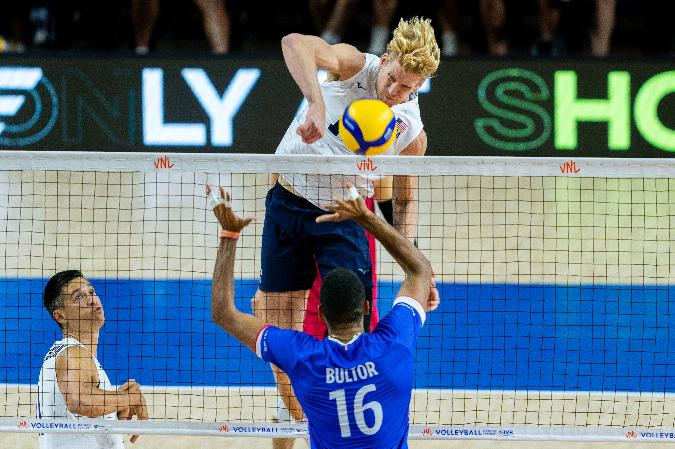ballon_volley: (339, 98, 398, 157)
